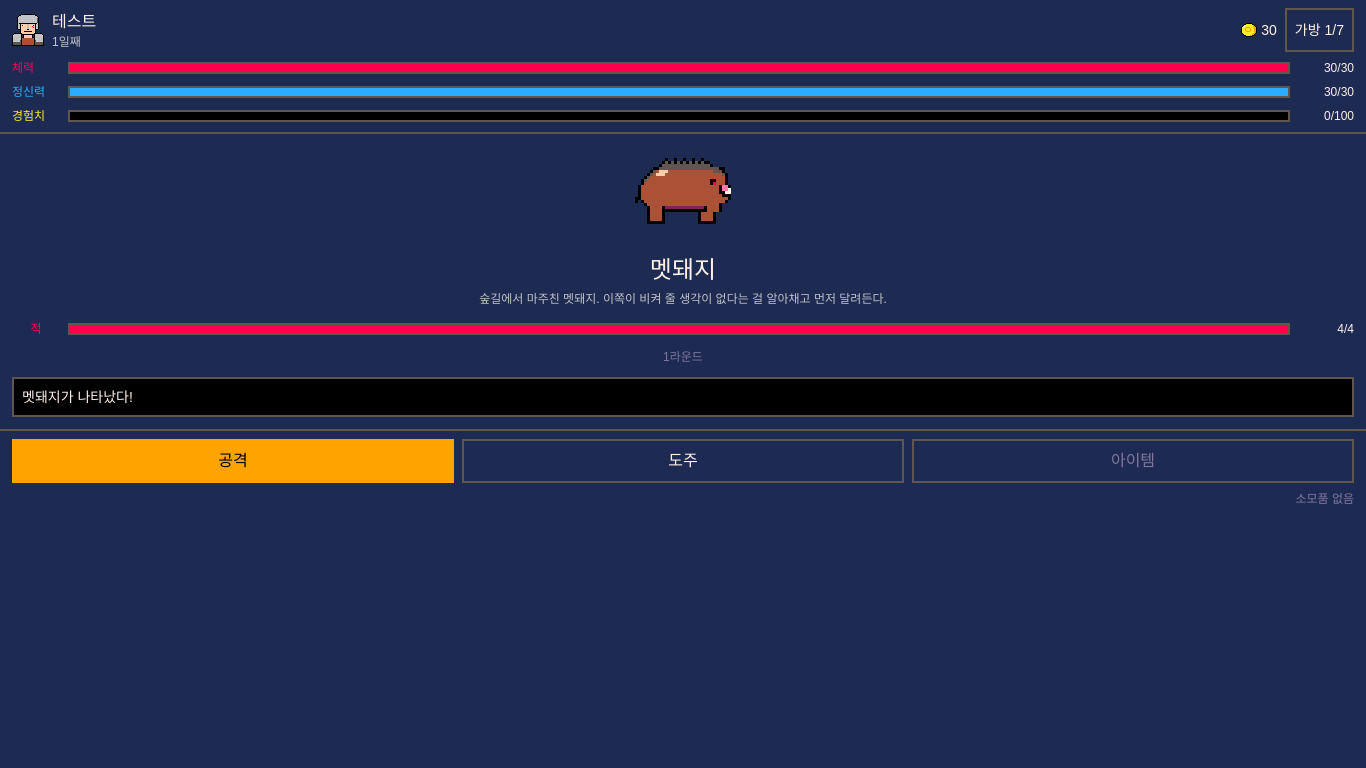
Test: CombatView › 공격 runs a round: the log grows and the round advances
This screenshot has width=1366, height=768.
Expected: the number of list items is 1, [22,389,133,405]
Click the button "공격" at (233, 461), box [12,439,454,483]
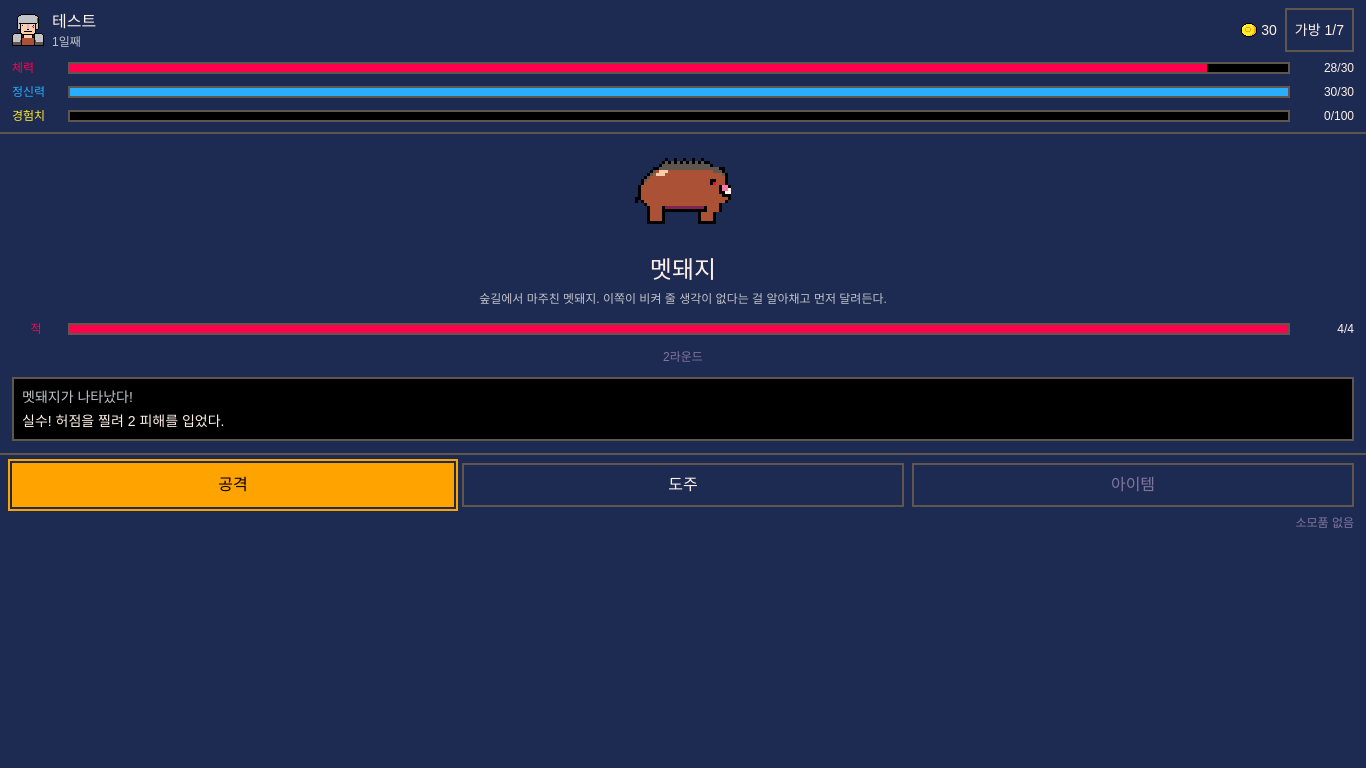
Result: the number of list items is 2 at [22,389,133,405]; [22,413,224,429]
